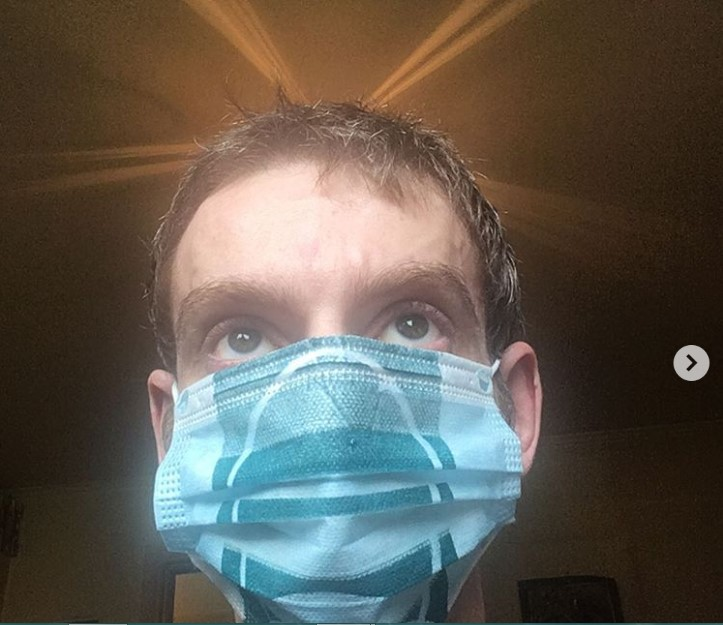face_with_mask: (148, 112, 548, 624)
